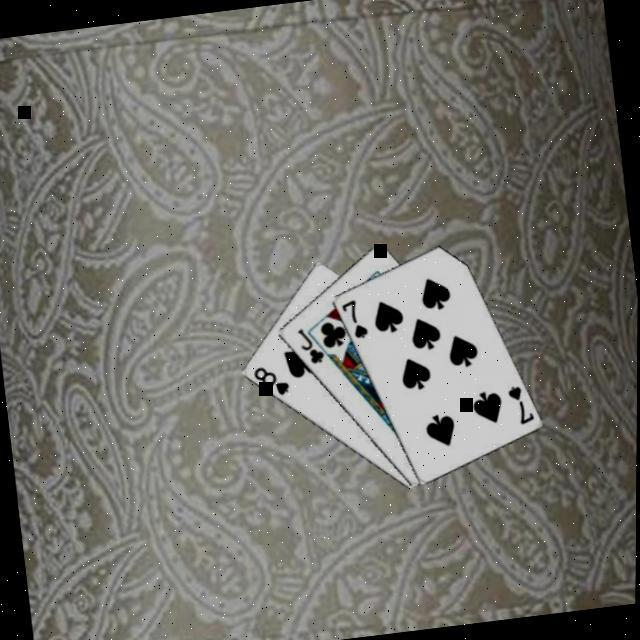7S: (502, 378, 535, 426), (335, 294, 368, 340)
8S: (247, 358, 291, 400)
JC: (292, 321, 326, 366)
